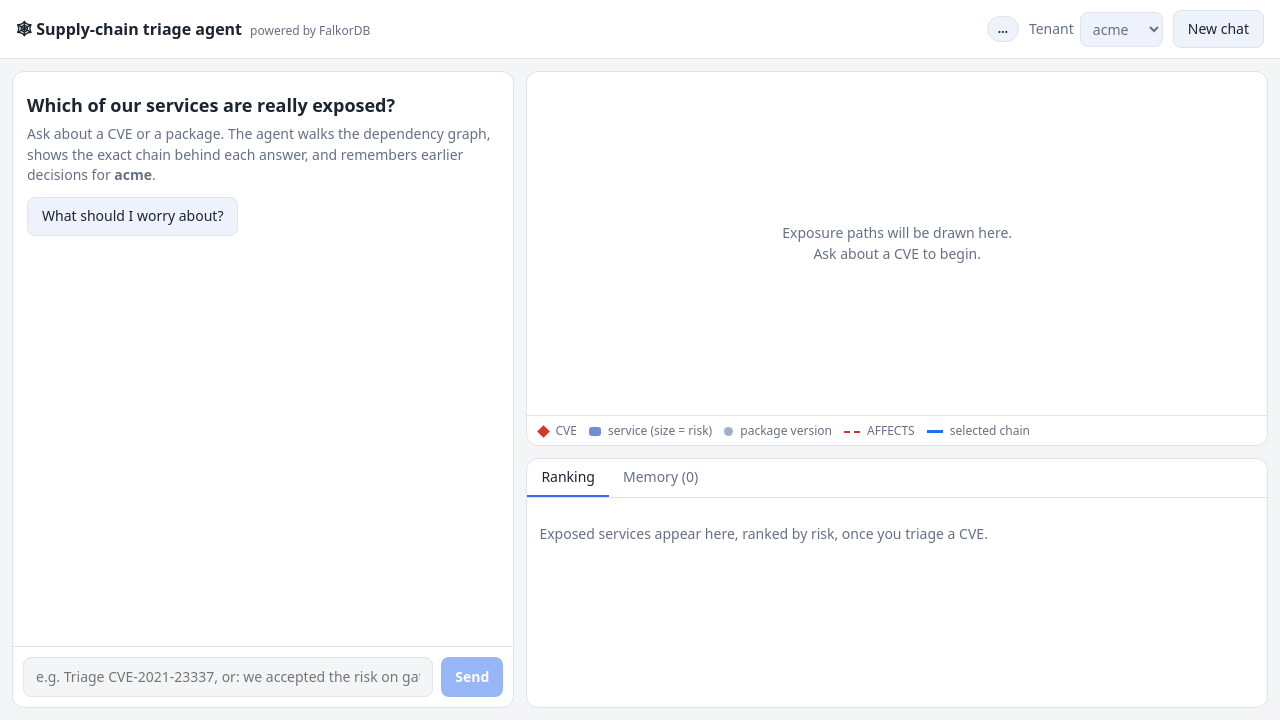
Test: triage UI › renders model text safely: markdown works, HTML does not
Click the button "What should I worry about?" at (133, 216), box [27, 197, 238, 236]
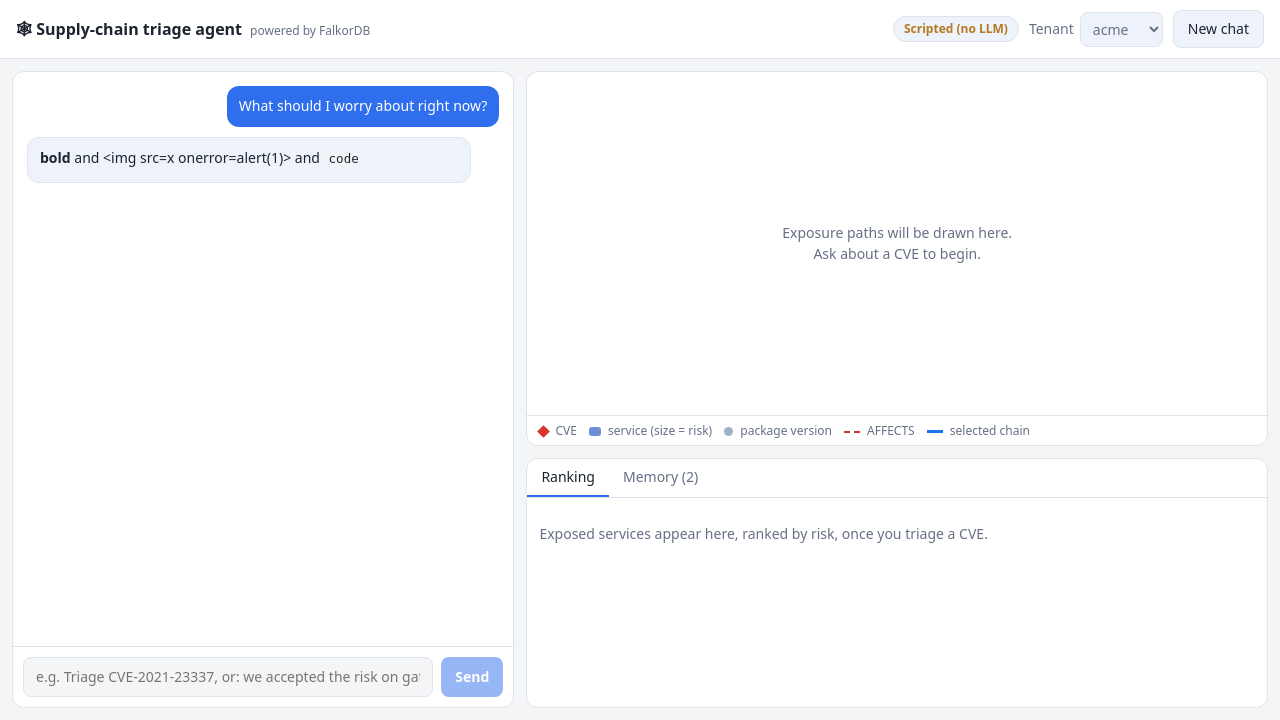
Expected: the text "bold and <img src=x onerror=alert(1)> and code" is shown, [40, 148, 364, 167]
